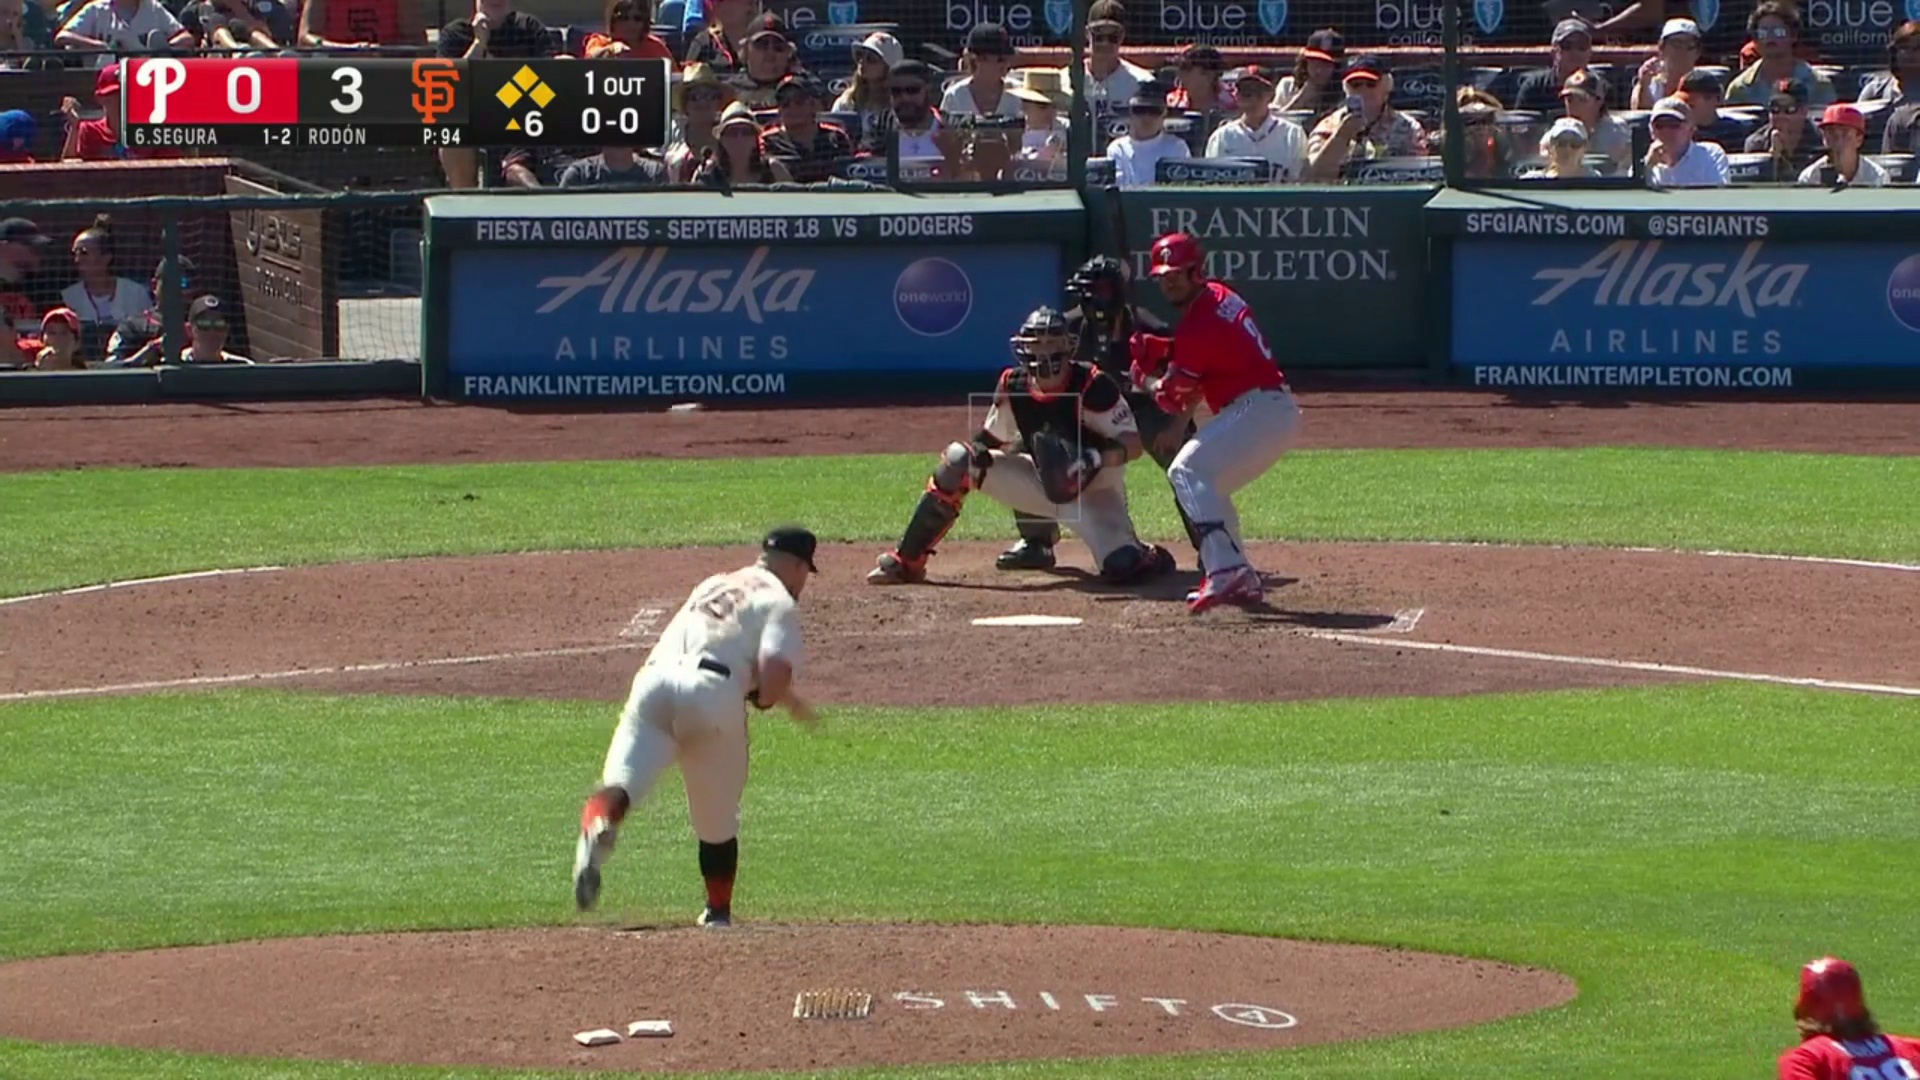baseball: (669, 401, 700, 423)
